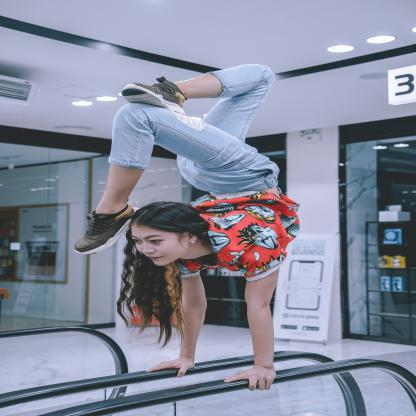Eye: (150, 240, 165, 245), (132, 239, 142, 244)
Mouth: (147, 256, 163, 260)
Nose: (142, 242, 156, 254)
